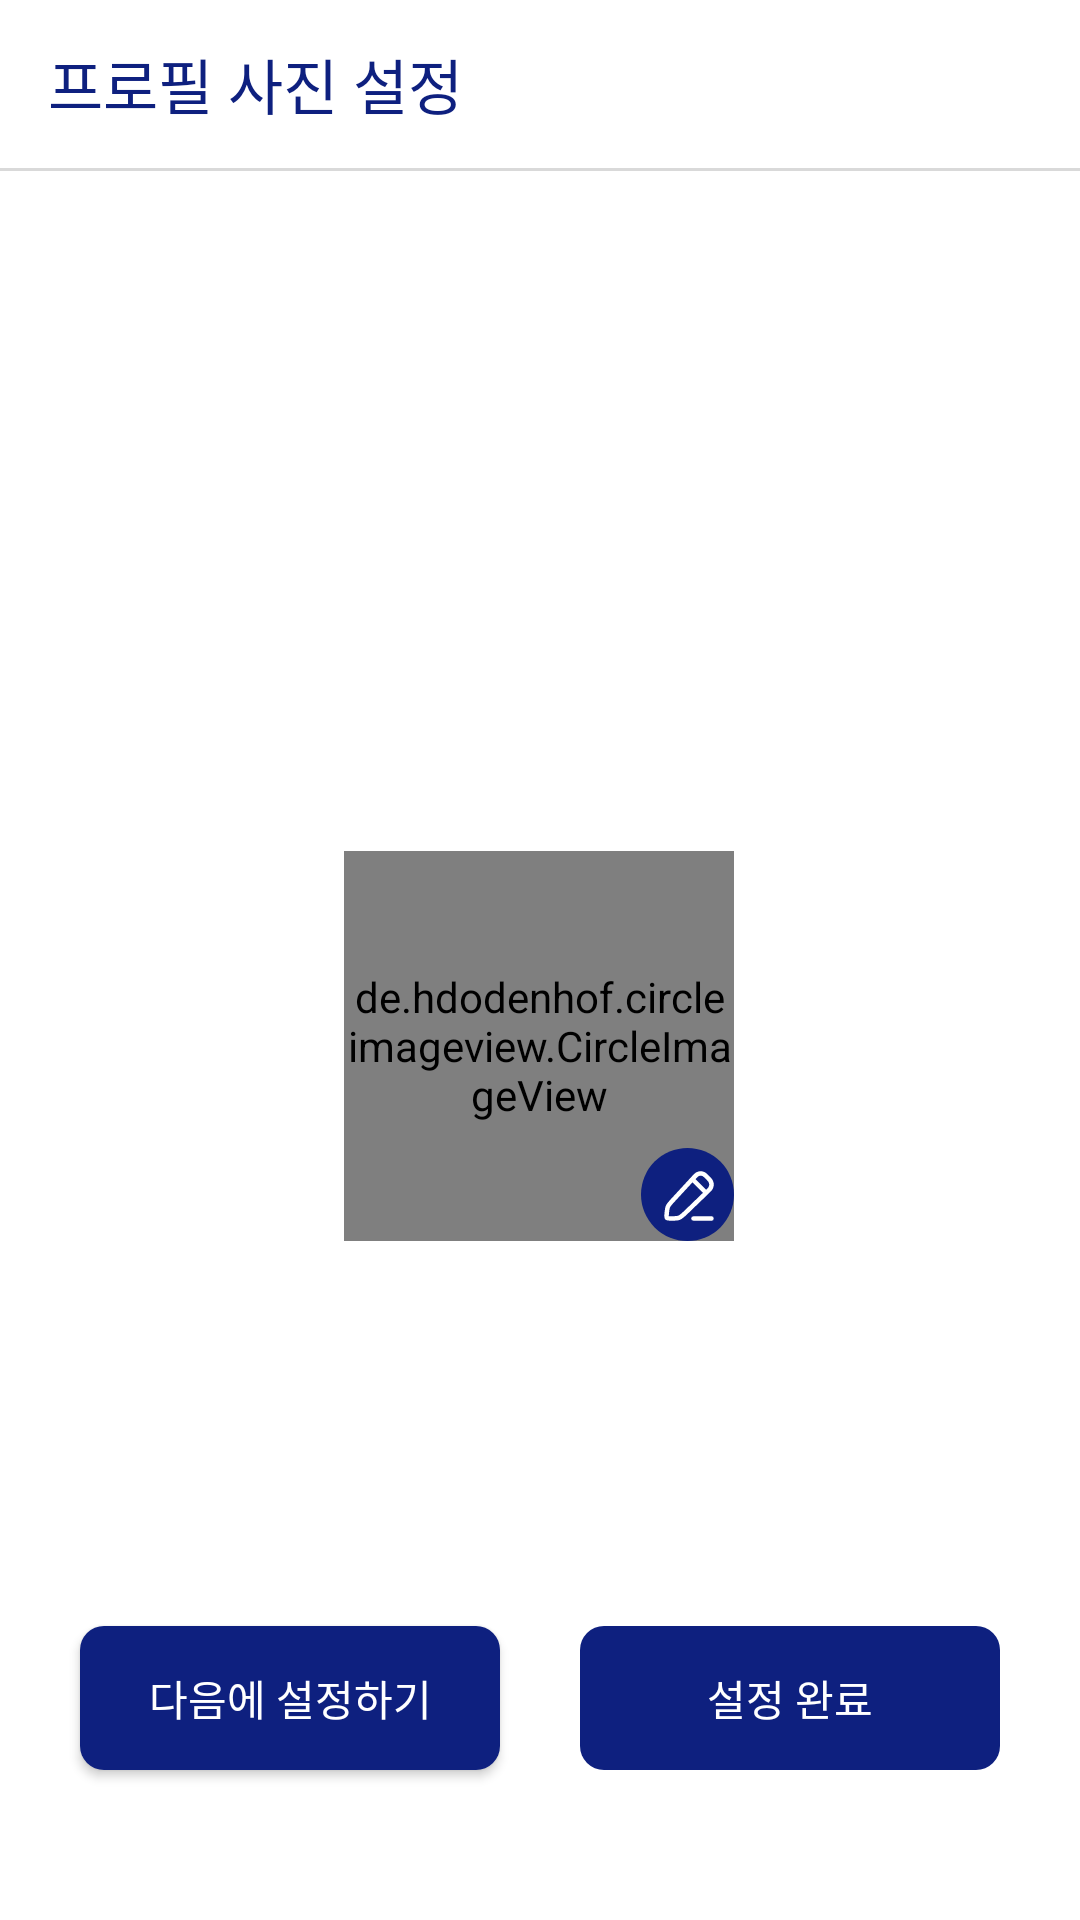

Where to tap for icons on this 1080*1920 app screen, as [x,y]:
profile pen: [687,1194]
